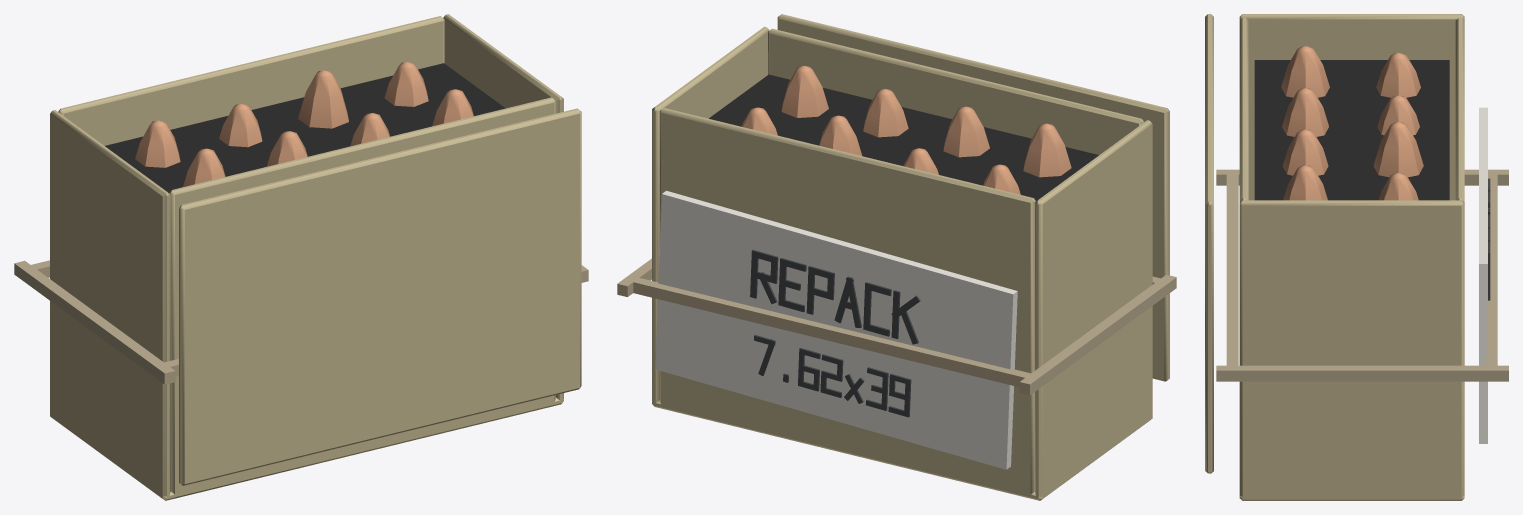
Rendered from ammo_762x39_repack.glb.
3 renders of one model, left to right at view 1: azimuth 30°, elevation 25°; view 2: azimuth 150°, elevation 25°; view 3: azimuth 270°, elevation 25°, orthographic. The views are drawn at different scales.
Visible parts, largest first — view 1: body; view 2: body; view 3: body.
Boxes of the visible parts, x1,y1,x2,y2 form: body: (14, 14, 588, 500); body: (617, 14, 1176, 500); body: (1205, 14, 1508, 500).
Bounding box in the file's own units: 0.0634 × 0.0448 × 0.0405.
